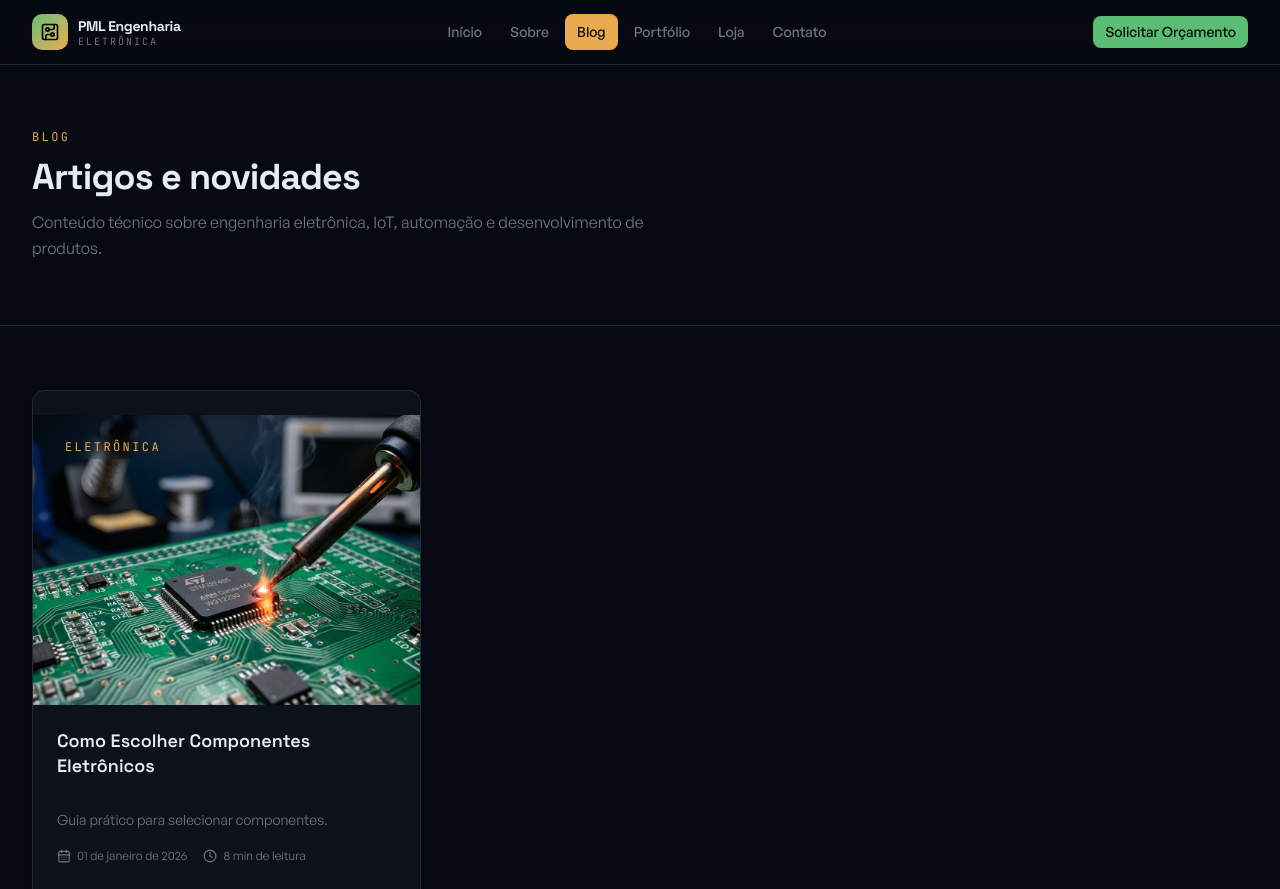
Relevant image on every page › renders at least one relevant image on the Portfólio page
The image size is (1280, 889).
Click the link "Portfólio". click: {"x": 662, "y": 32}
box: [634, 23, 690, 40]
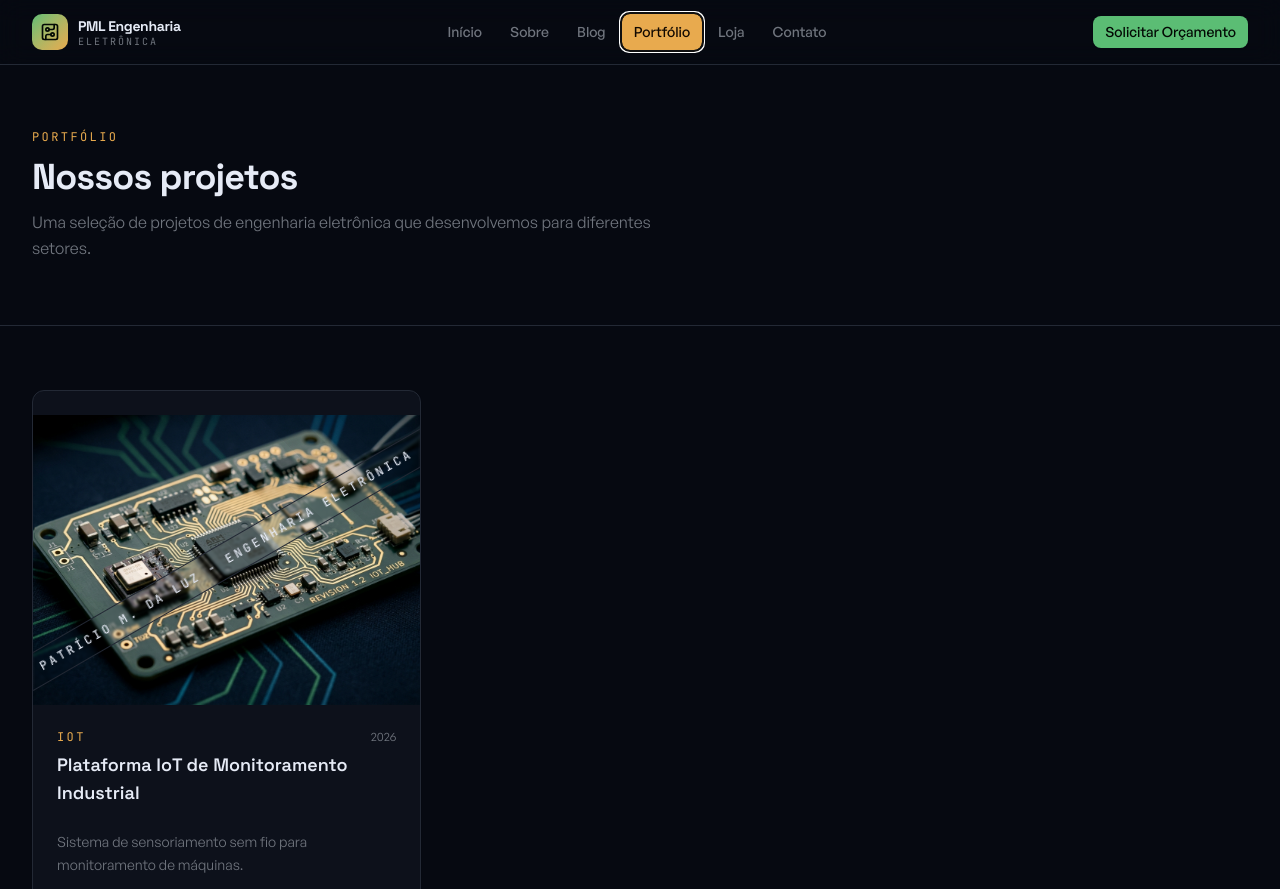
Expected: the heading "Nossos projetos" is shown, [32, 157, 298, 197]
Expected: the picture is shown, [33, 415, 420, 706]
